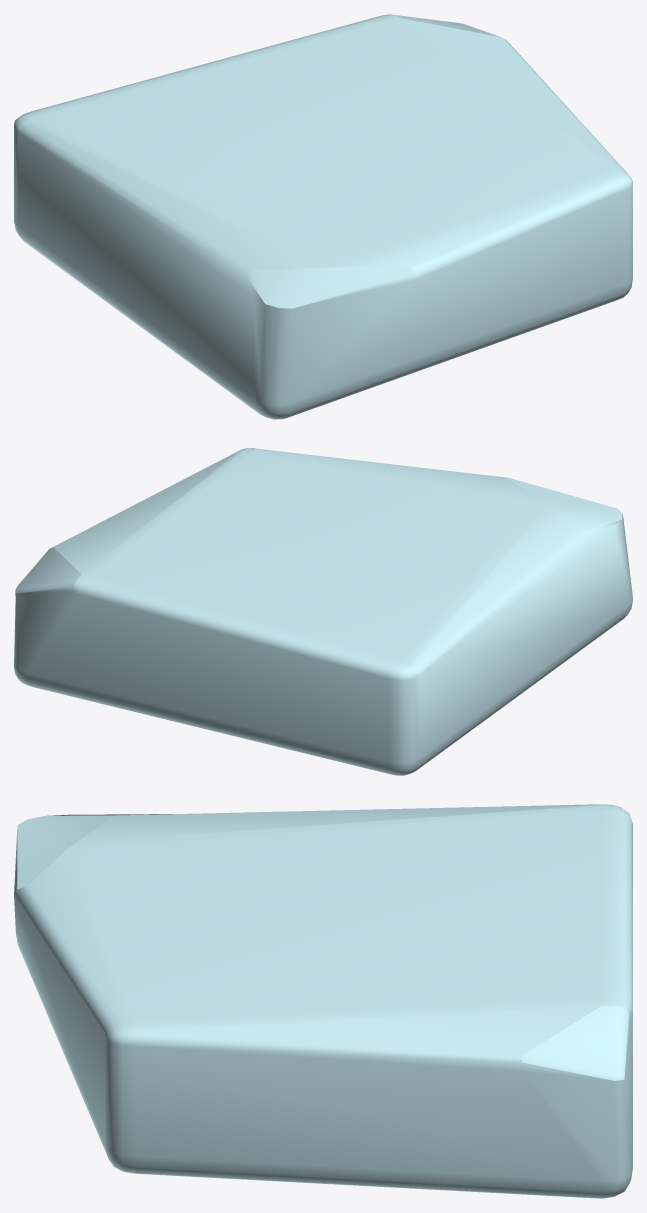
The model's file is Box_Floor_06.fbx.
3 renders of one model, top to bottom at view 1: azimuth 30°, elevation 25°; view 2: azimuth 150°, elevation 25°; view 3: azimuth 270°, elevation 25°, orthographic. The views are drawn at different scales.
Parts seen in each view (by area): view 1: Box_Floor_06; view 2: Box_Floor_06; view 3: Box_Floor_06.
Part boxes in pixels (x1,y1,x2,y2): Box_Floor_06: (14,14,632,419); Box_Floor_06: (14,448,632,775); Box_Floor_06: (14,804,632,1198).
Bounding box in the file's own units: 20 × 5.78 × 20.06.
